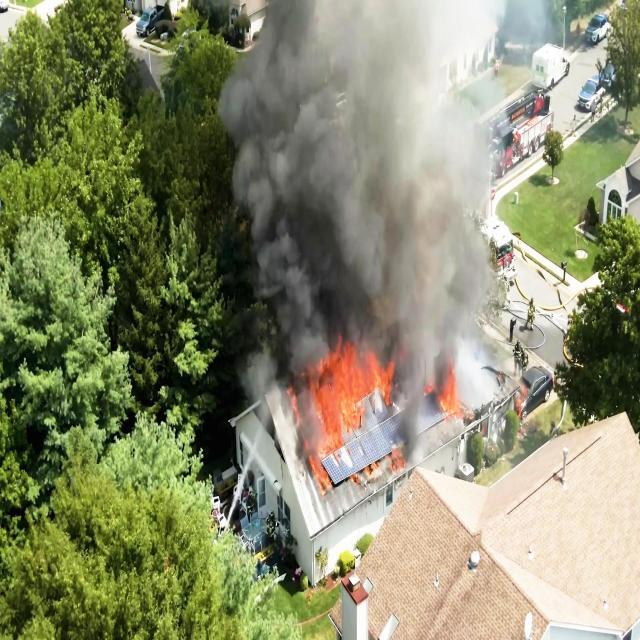Fire: (288, 316, 472, 487)
Smoke: (228, 0, 512, 336)
